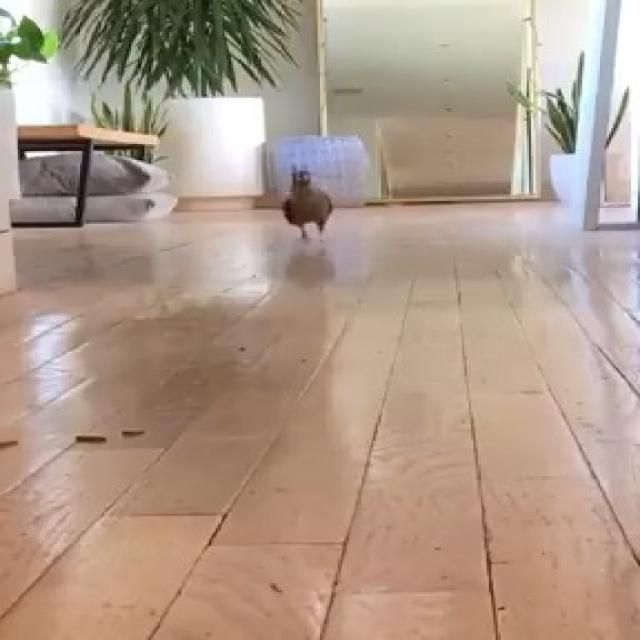running: (258, 149, 362, 258)
